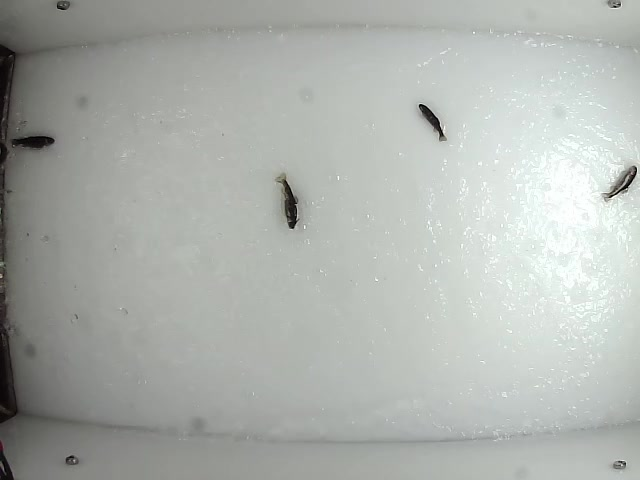fish: (274, 171, 302, 232), (598, 164, 639, 204), (415, 102, 448, 143), (7, 134, 57, 151)
